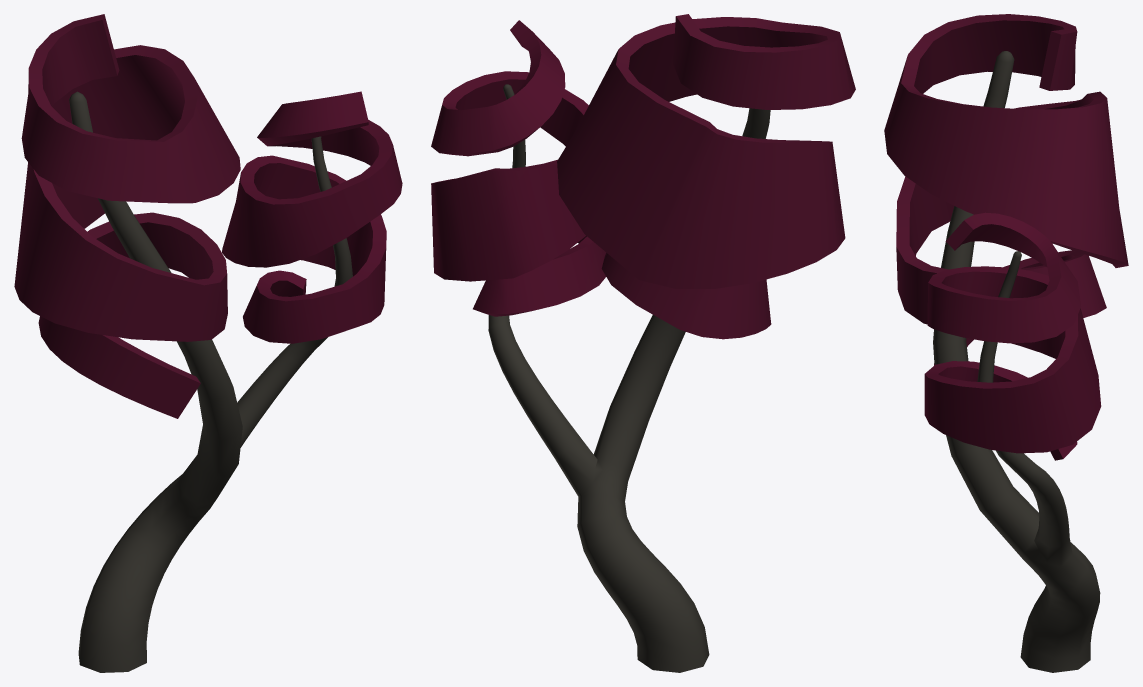
Rendered from tree-spiral-2.glb.
3 renders of one model, left to right at view 1: azimuth 30°, elevation 25°; view 2: azimuth 150°, elevation 25°; view 3: azimuth 270°, elevation 25°, orthographic. The views are drawn at different scales.
Parts seen in each view (by area): view 1: Tree_Spiral_2; view 2: Tree_Spiral_2; view 3: Tree_Spiral_2.
Boxes of the visible parts, x1=… form: Tree_Spiral_2: x1=14, y1=14, x2=402, y2=672; Tree_Spiral_2: x1=431, y1=14, x2=855, y2=672; Tree_Spiral_2: x1=884, y1=14, x2=1128, y2=672.
Size of the model in its own units: 3.8 by 6.19 by 2.2.
Materials: 1 (1 with a texture image).
